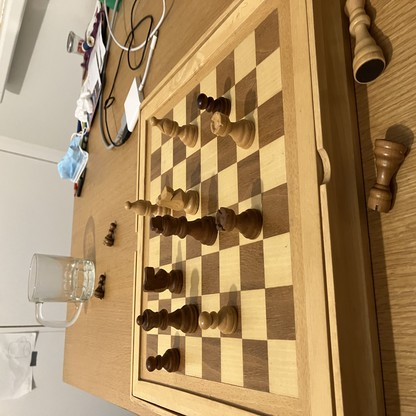bishop_white: (151, 117, 198, 146), (124, 201, 171, 215)
king_black: (150, 217, 215, 244)
knight_black: (142, 267, 184, 292)
knight_white: (156, 187, 200, 214)
pawn_black: (147, 350, 181, 372), (198, 94, 232, 115), (103, 221, 116, 244), (94, 276, 105, 298)
pawn_white: (199, 307, 238, 334)
queen_black: (136, 306, 199, 332)
rock_black: (368, 140, 406, 213), (217, 207, 263, 238)
rock_white: (211, 112, 255, 149)
